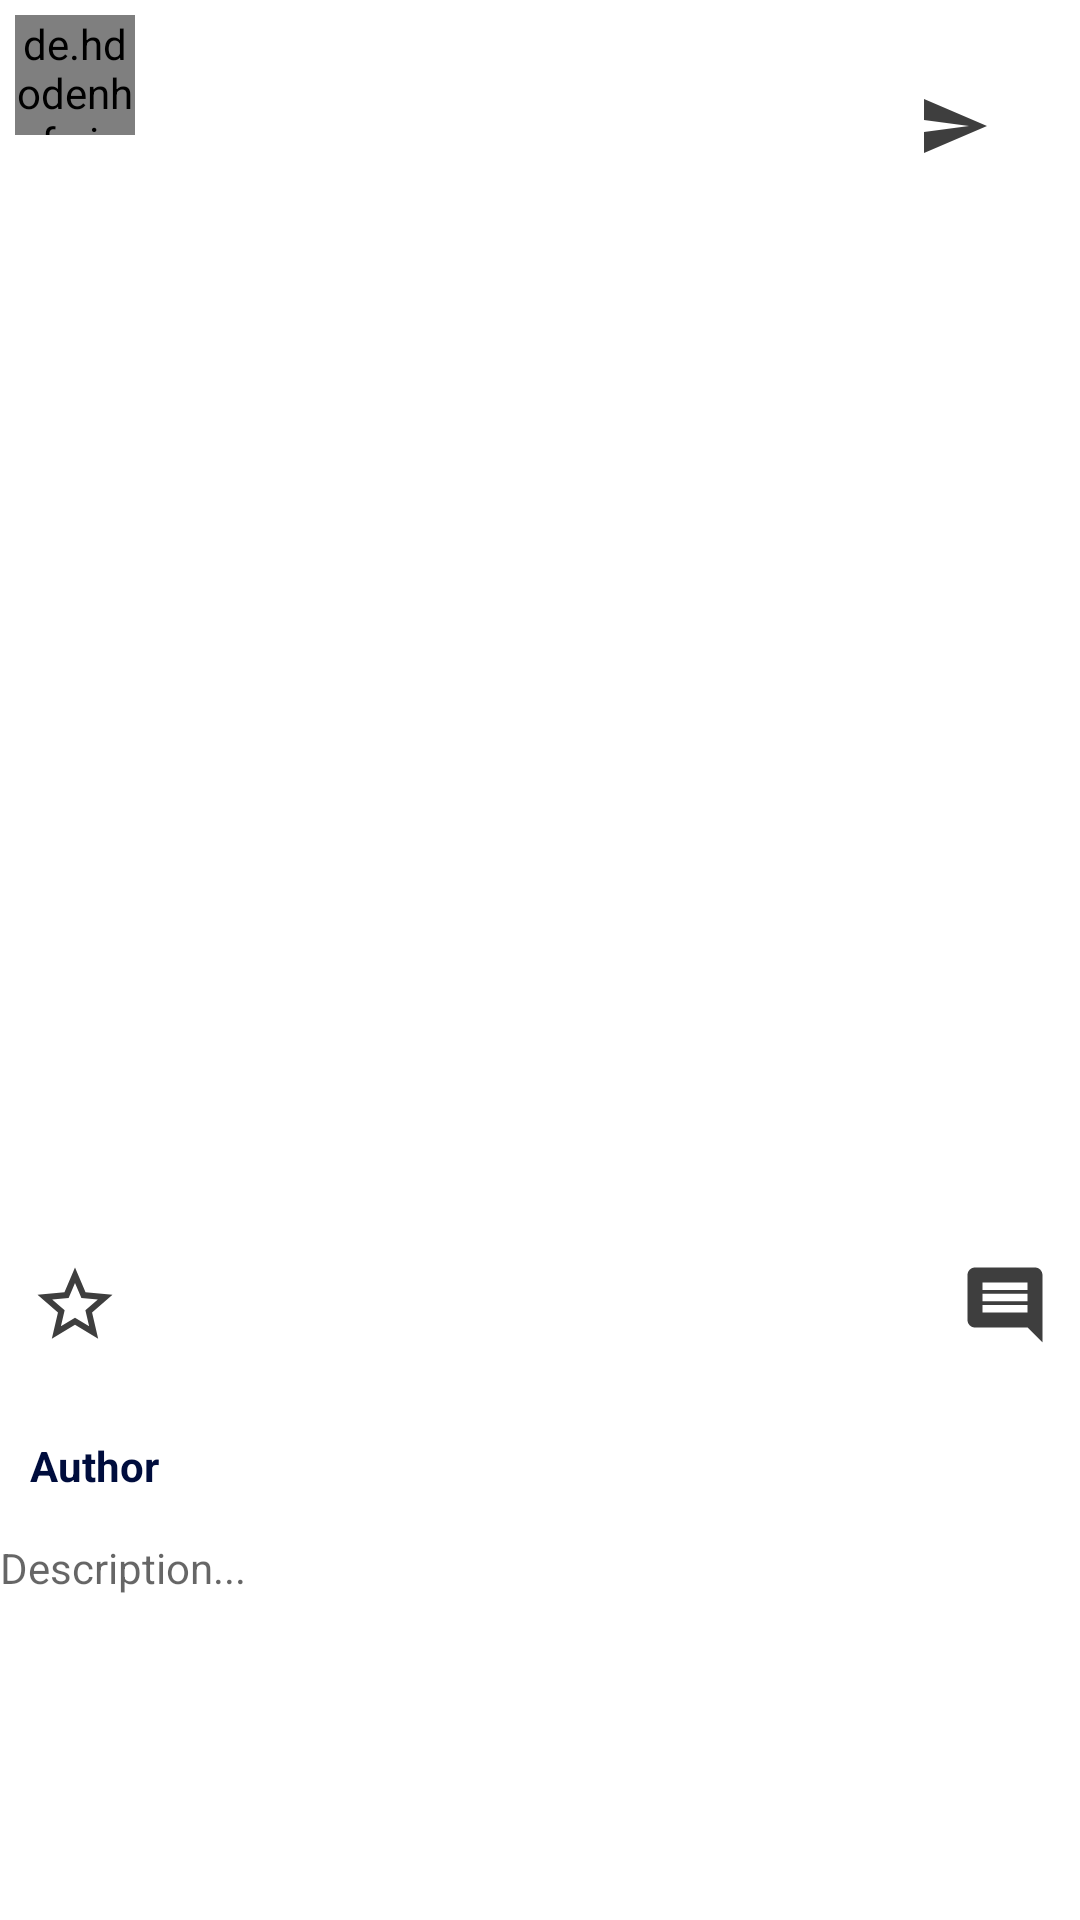

Named icons in this screenshot (1080*1920) and their bounding boxes, {"left": x1, "top": y1, "right": x2, "bottom": y2}:
comment: {"left": 967, "top": 1267, "right": 1043, "bottom": 1342}
send: {"left": 924, "top": 99, "right": 987, "bottom": 153}
star: {"left": 38, "top": 1268, "right": 112, "bottom": 1339}
